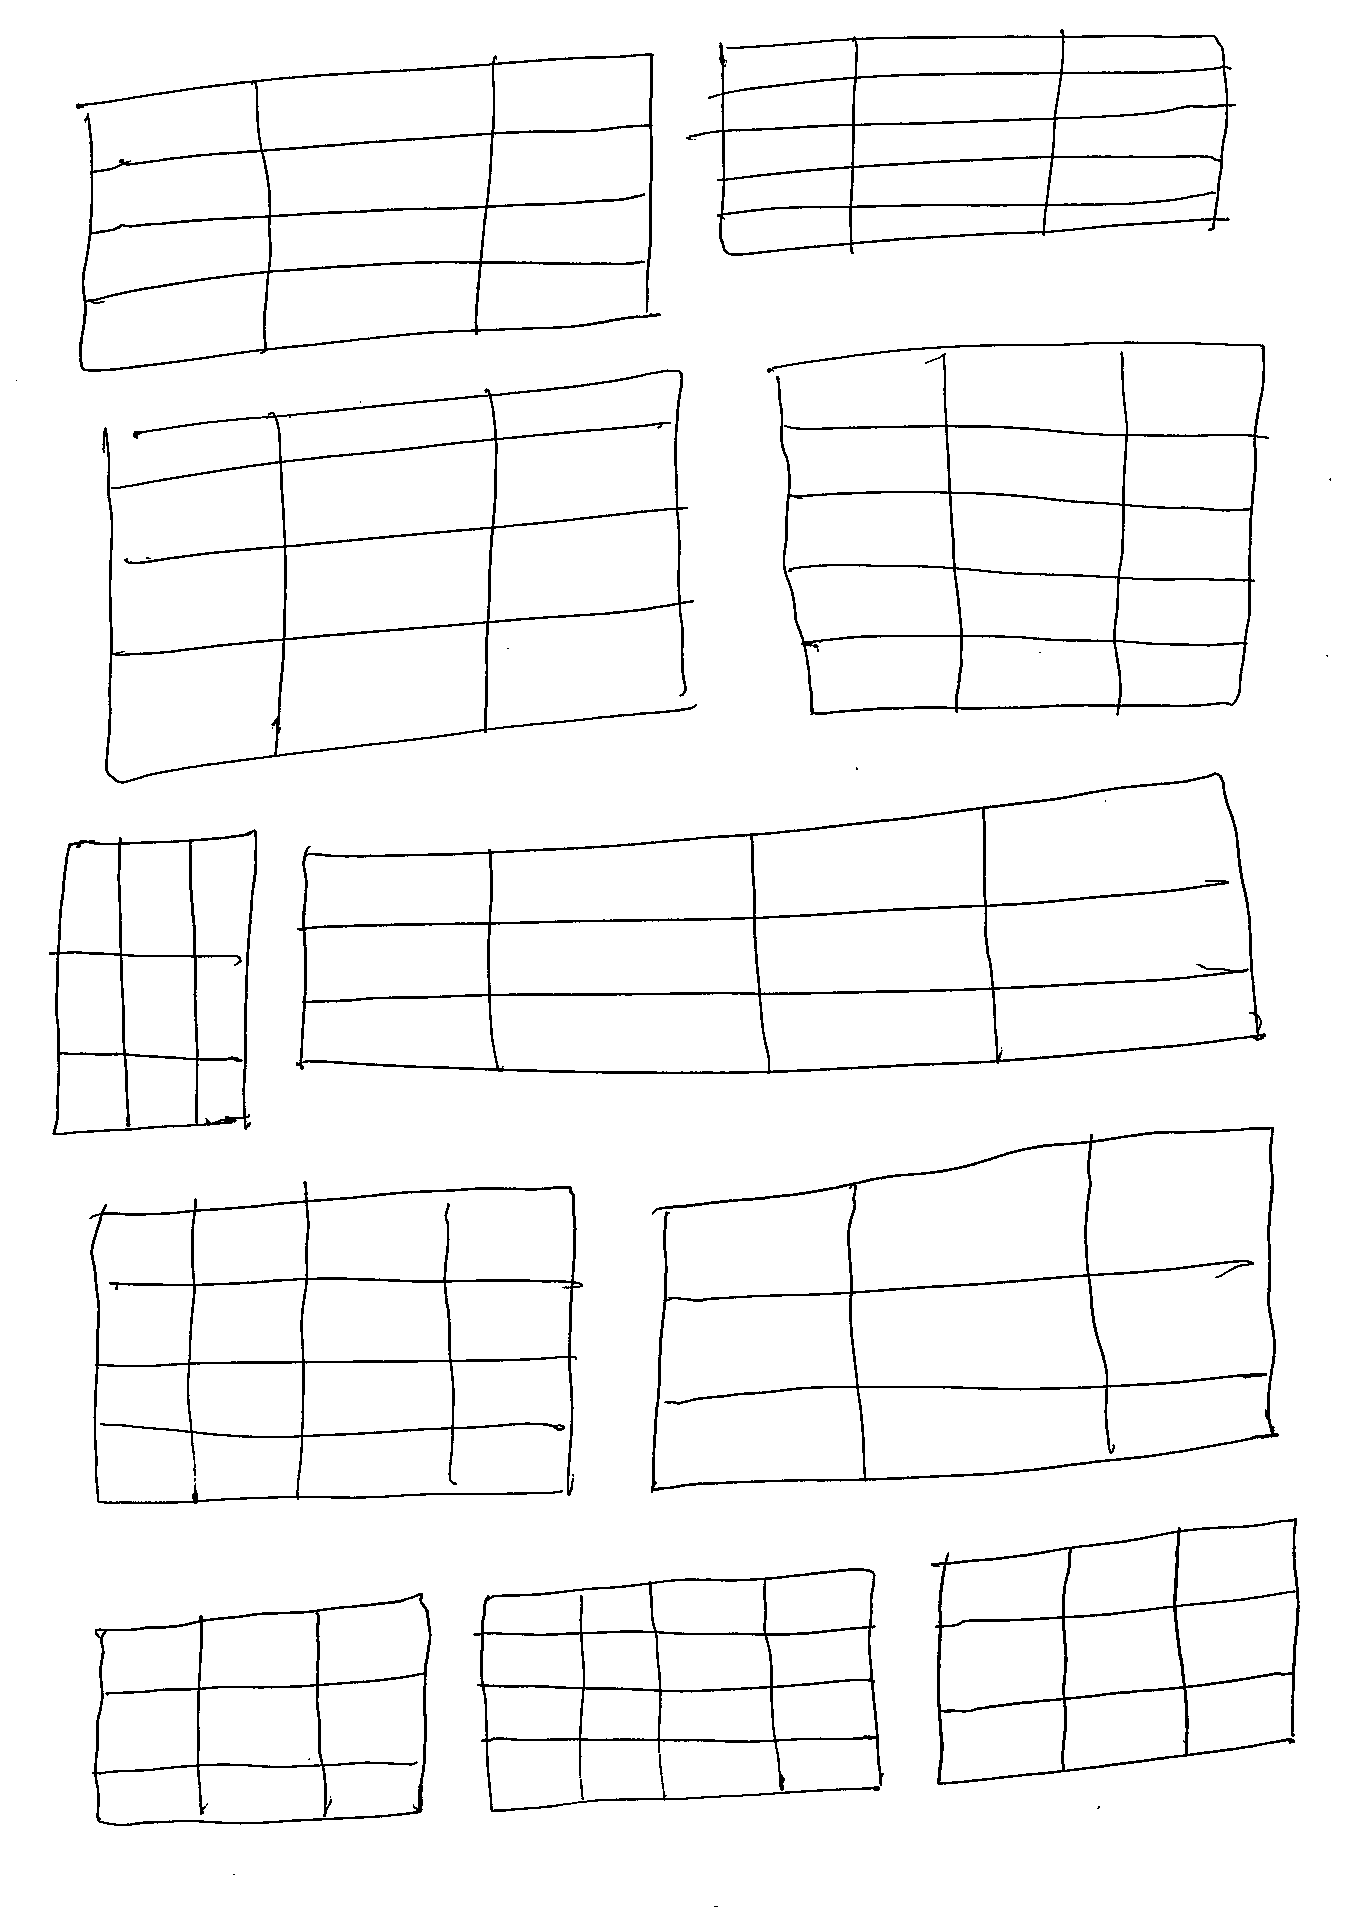Table: (321, 767, 1265, 1059), (98, 365, 695, 794), (645, 1116, 1283, 1501), (767, 325, 1277, 717), (71, 44, 659, 379), (83, 1178, 580, 1513), (713, 27, 1236, 262), (478, 1564, 888, 1823), (927, 1513, 1308, 1791), (86, 1591, 439, 1832), (44, 827, 265, 1150)
